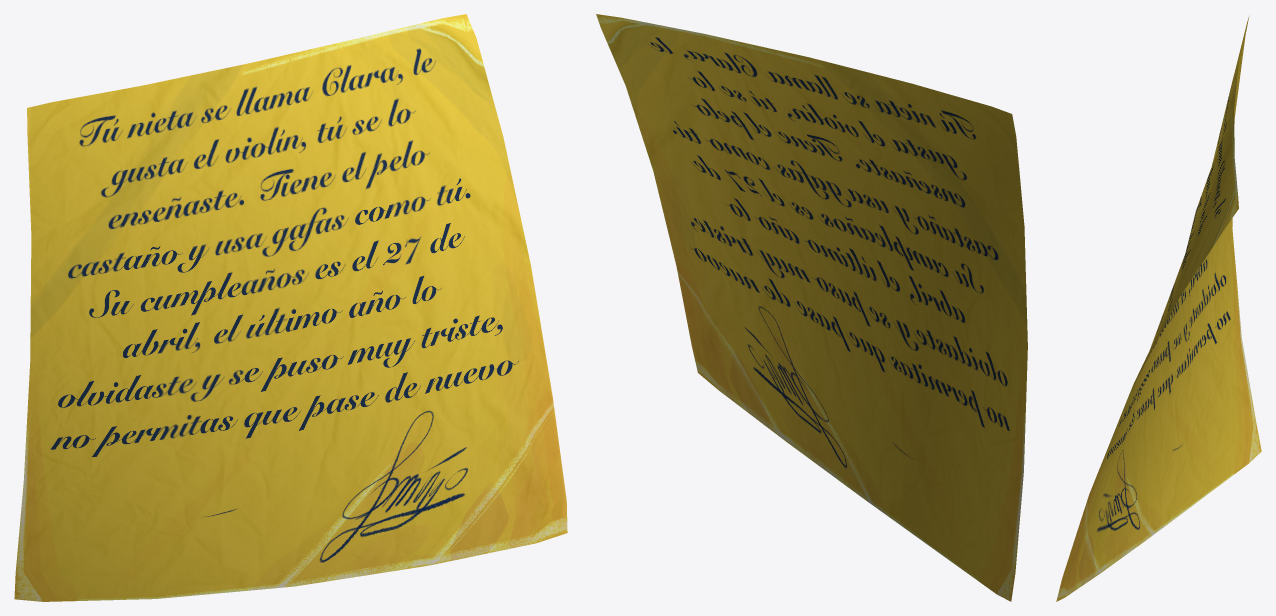
Rendered from postit7.fbx.
3 views of the same model, side by side, from view 1: azimuth 30°, elevation 25°; view 2: azimuth 150°, elevation 25°; view 3: azimuth 270°, elevation 25° (orthographic). The views are drawn at different scales.
Parts seen in each view (by area): view 1: Plane; view 2: Plane; view 3: Plane.
Part boxes in pixels (box(x1,y1,x2,y2)): Plane: box(14, 14, 567, 601); Plane: box(596, 14, 1027, 601); Plane: box(1056, 16, 1261, 601).
Size of the model in its own units: 74.78 by 80.22 by 33.68.
1 material, 1 textured.
